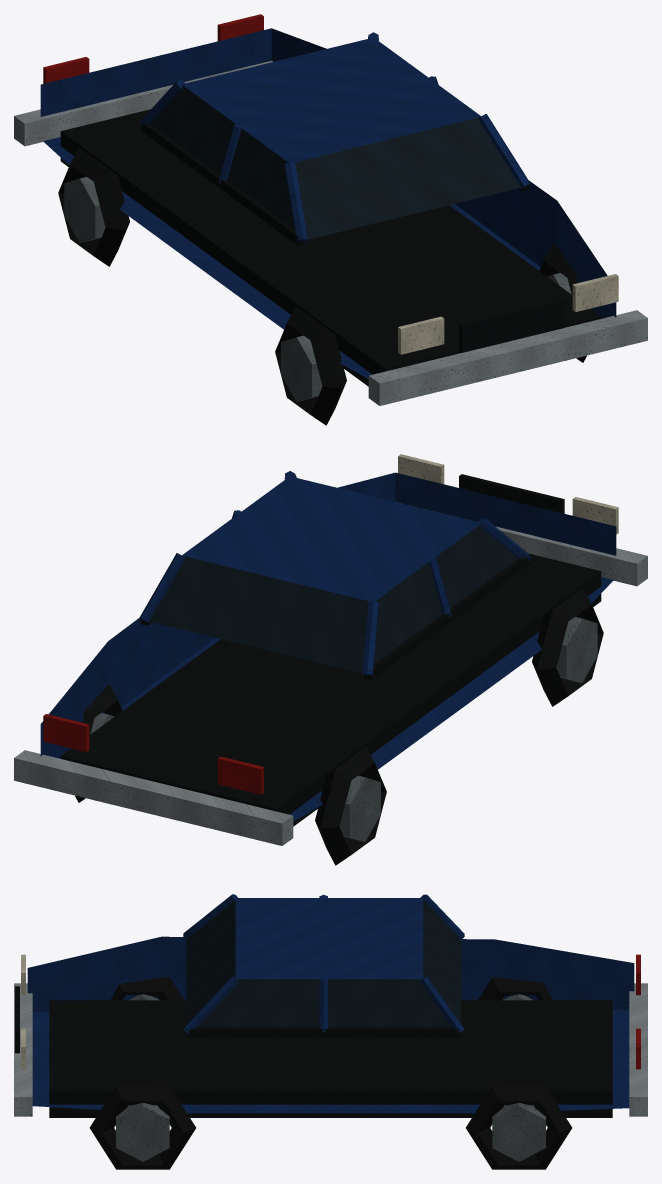
File: PROP-E698DF31D488_lod2.glb
The picture shows the model from 3 angles, top to bottom: view 1: azimuth 30°, elevation 25°; view 2: azimuth 150°, elevation 25°; view 3: azimuth 270°, elevation 25°; orthographic projection. The views are drawn at different scales.
Parts seen in each view (by area): view 1: chassis.010, sloped_cabin_glazing.010, roof_panel.010, shaped_body_panels.010, bumper.010, tire.010, rim.010, radiator_grille.010, window_pillars.010, lamp_lenses.020, window_belt.010, lamp_lenses.021; view 2: chassis.010, sloped_cabin_glazing.010, roof_panel.010, shaped_body_panels.010, bumper.010, tire.010, rim.010, window_pillars.010, lamp_lenses.021, window_belt.010, lamp_lenses.020, radiator_grille.010; view 3: chassis.010, shaped_body_panels.010, sloped_cabin_glazing.010, roof_panel.010, tire.010, rim.010, bumper.010, window_belt.010, window_pillars.010, lamp_lenses.020, lamp_lenses.021.
Boxes of the visible parts, x1,y1,x2,y2 form: chassis.010: [60, 109, 601, 386]; sloped_cabin_glazing.010: [151, 85, 520, 239]; roof_panel.010: [182, 37, 480, 162]; shaped_body_panels.010: [40, 28, 616, 378]; bumper.010: [14, 61, 647, 405]; tire.010: [58, 148, 586, 425]; rim.010: [64, 177, 571, 401]; radiator_grille.010: [459, 298, 564, 352]; window_pillars.010: [139, 32, 530, 241]; lamp_lenses.020: [398, 274, 618, 354]; window_belt.010: [140, 121, 529, 246]; lamp_lenses.021: [43, 14, 263, 83]; chassis.010: [60, 553, 601, 826]; sloped_cabin_glazing.010: [149, 523, 518, 673]; roof_panel.010: [182, 476, 481, 601]; shaped_body_panels.010: [40, 472, 616, 821]; bumper.010: [14, 526, 647, 845]; tire.010: [75, 588, 603, 865]; rim.010: [90, 617, 597, 841]; window_pillars.010: [139, 471, 530, 675]; lamp_lenses.021: [43, 714, 263, 794]; window_belt.010: [140, 555, 529, 680]; lamp_lenses.020: [398, 454, 618, 534]; radiator_grille.010: [459, 474, 564, 513]; chassis.010: [49, 1000, 612, 1117]; shaped_body_panels.010: [27, 936, 634, 1113]; sloped_cabin_glazing.010: [186, 898, 460, 1027]; roof_panel.010: [235, 898, 423, 979]; tire.010: [89, 977, 572, 1169]; rim.010: [116, 994, 545, 1161]; bumper.010: [14, 983, 647, 1116]; window_belt.010: [186, 1027, 460, 1037]; window_pillars.010: [183, 894, 464, 1033]; lamp_lenses.020: [21, 954, 25, 1069]; lamp_lenses.021: [636, 954, 640, 1069].
Bounding box in the file's own units: 1.98 × 1.38 × 4.39.
8 materials, 8 textured.
